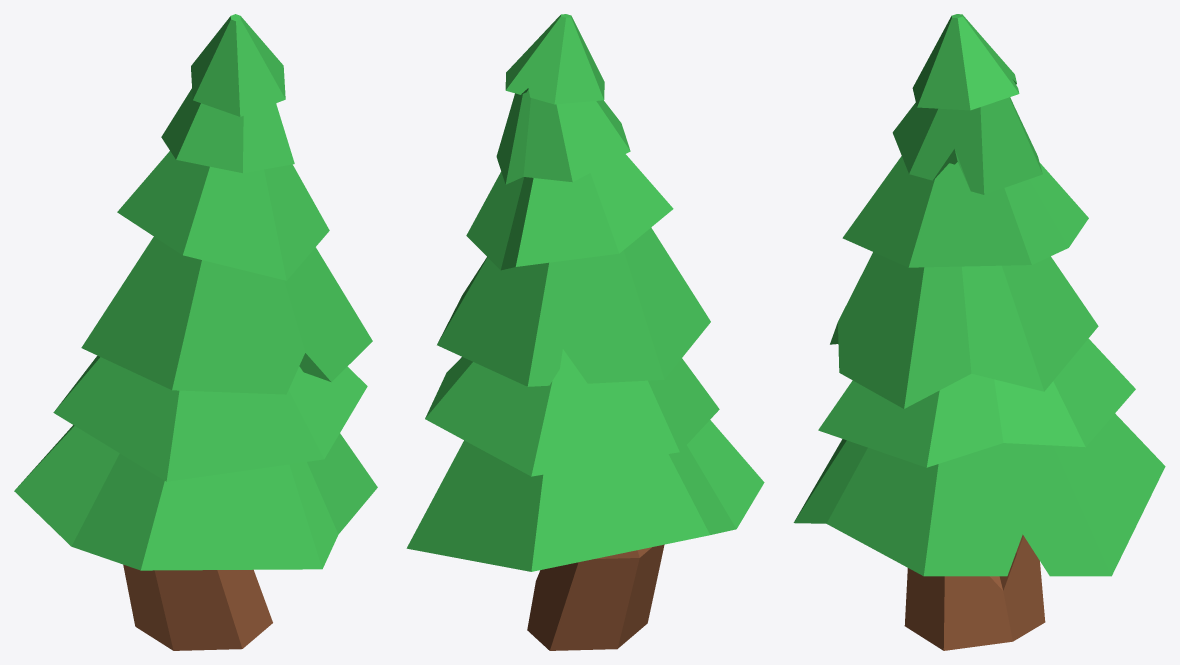
File: pinheiro5.fbx
3 renders of one model, left to right at view 1: azimuth 30°, elevation 25°; view 2: azimuth 150°, elevation 25°; view 3: azimuth 270°, elevation 25°, orthographic. The views are drawn at different scales.
Parts seen in each view (by area): view 1: Cylinder.029, Cylinder.031, Cylinder.030, Cylinder.032, Cylinder.028, Cylinder.033, Cylinder.034; view 2: Cylinder.029, Cylinder.031, Cylinder.030, Cylinder.032, Cylinder.028, Cylinder.033, Cylinder.034; view 3: Cylinder.029, Cylinder.031, Cylinder.030, Cylinder.032, Cylinder.028, Cylinder.033, Cylinder.034.
Part boxes in pixels (bbox=[...]): Cylinder.029: bbox=[14, 425, 377, 570]; Cylinder.031: bbox=[81, 236, 372, 394]; Cylinder.030: bbox=[53, 355, 367, 481]; Cylinder.032: bbox=[117, 151, 329, 280]; Cylinder.028: bbox=[123, 564, 272, 650]; Cylinder.033: bbox=[161, 88, 294, 173]; Cylinder.034: bbox=[191, 14, 285, 116]; Cylinder.029: bbox=[406, 420, 764, 571]; Cylinder.031: bbox=[437, 227, 710, 386]; Cylinder.030: bbox=[425, 349, 719, 476]; Cylinder.032: bbox=[466, 154, 673, 270]; Cylinder.028: bbox=[527, 544, 664, 650]; Cylinder.033: bbox=[496, 89, 630, 184]; Cylinder.034: bbox=[505, 14, 604, 104]; Cylinder.029: bbox=[793, 413, 1165, 576]; Cylinder.031: bbox=[830, 252, 1098, 408]; Cylinder.030: bbox=[818, 338, 1135, 467]; Cylinder.032: bbox=[842, 156, 1088, 267]; Cylinder.028: bbox=[904, 534, 1045, 650]; Cylinder.033: bbox=[892, 97, 1042, 194]; Cylinder.034: bbox=[912, 14, 1019, 110].
Bounding box in the file's own units: 564 × 1058 × 575.
